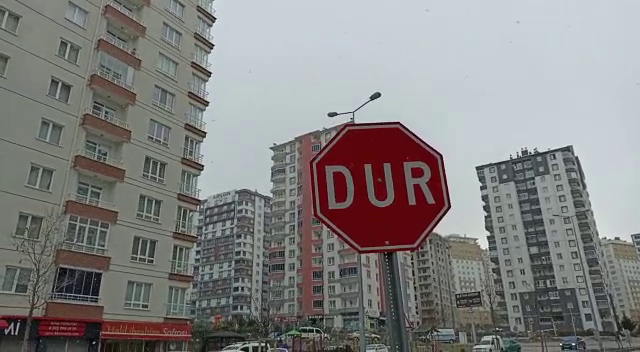stop: (305, 119, 456, 258)
